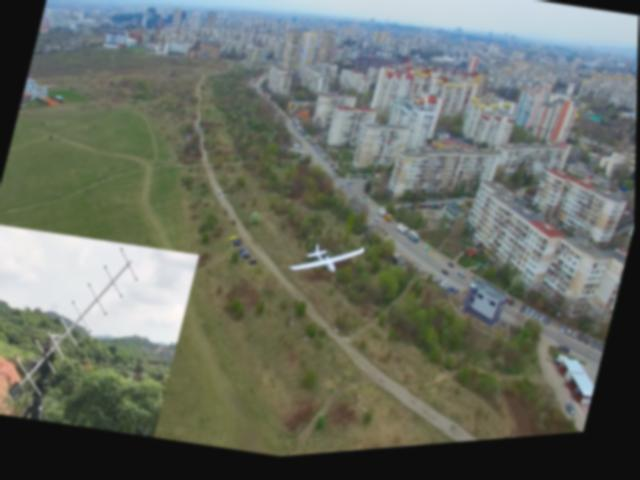plane: (289, 239, 365, 292)
